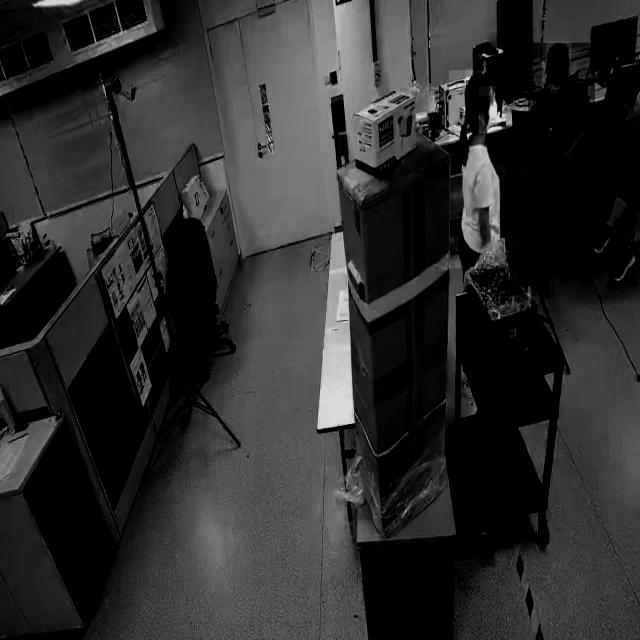face_mask: (479, 86, 501, 134), (541, 62, 567, 100)
head_nohelmet: (465, 68, 496, 97), (546, 42, 572, 64)
person: (527, 43, 595, 272), (449, 70, 505, 270)
shoes: (611, 245, 636, 289), (591, 214, 615, 257)
